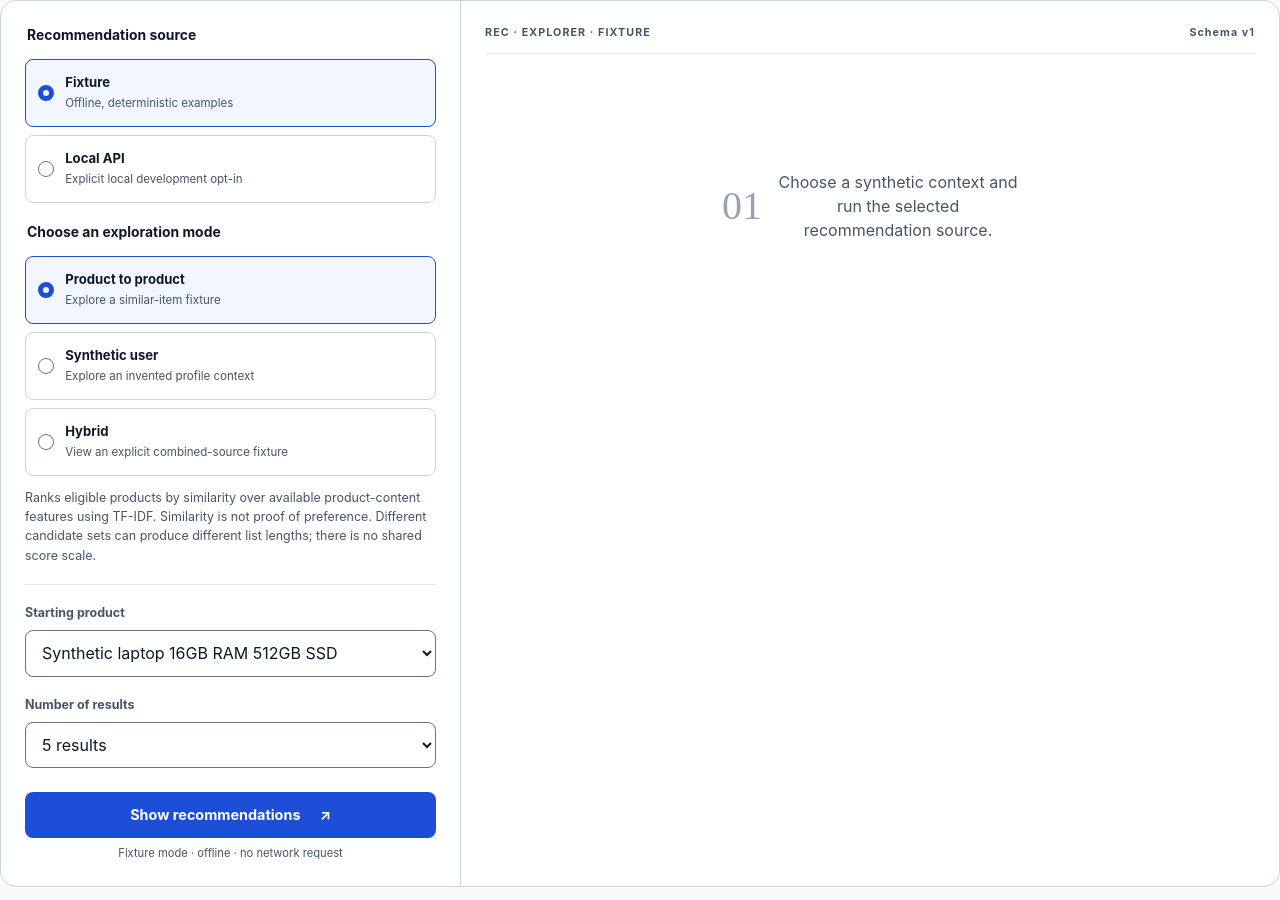
Test: recommendation explorer › shows loading, empty, error, and provenance states accessibly
Later steps or results of the test are not shown.
Step 1. Click the button "Show recommendations ↗" → (231, 815), box [25,792,436,838]
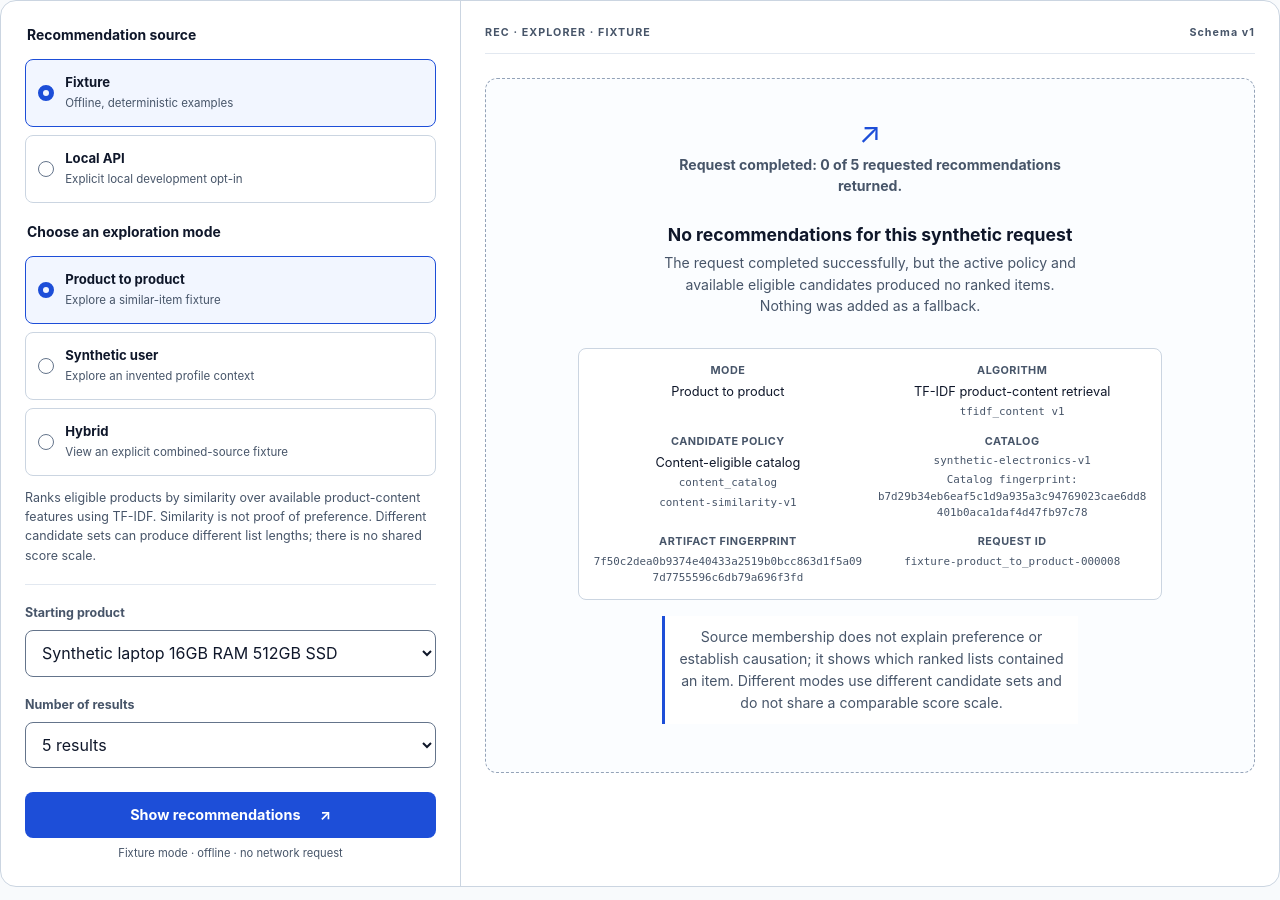
Now the heading "No recommendations for this synthetic request" is shown, box [668,222,1072,248]
Now the message shows "0 of 5 requested recommendations", box [679,156,1061,194]
